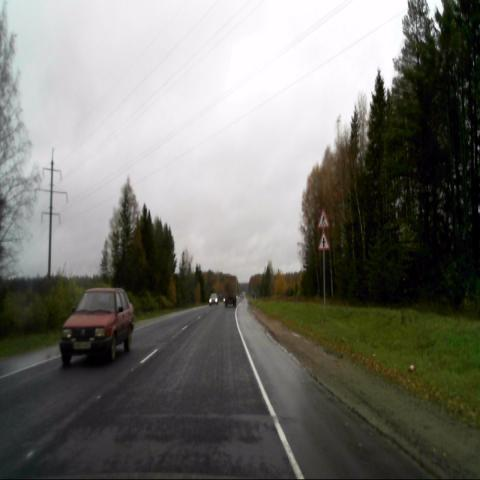1_22: (317, 208, 329, 228)
